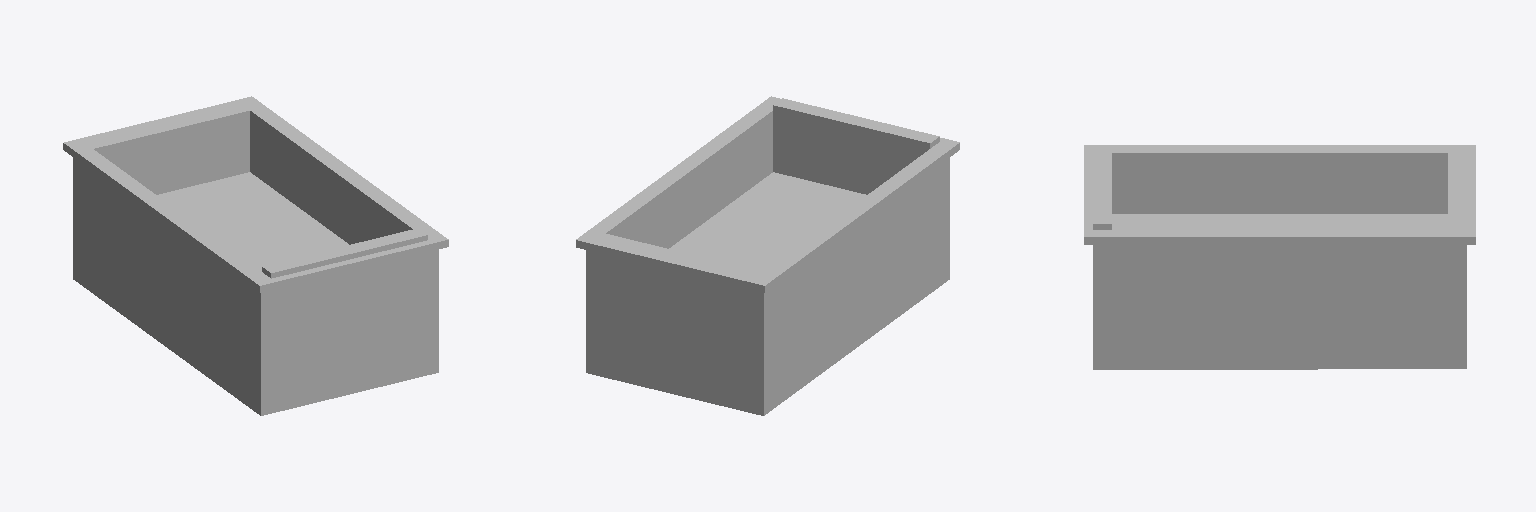
The model's file is Container.obj.
3 renders of one model, left to right at view 1: azimuth 30°, elevation 25°; view 2: azimuth 150°, elevation 25°; view 3: azimuth 270°, elevation 25°, orthographic.
Parts seen in each view (by area): view 1: Container:initialShadingGroup Container:initialShadingGroup1 Con; view 2: Container:initialShadingGroup Container:initialShadingGroup1 Con; view 3: Container:initialShadingGroup Container:initialShadingGroup1 Con.
Part boxes in pixels (left/top/right/bottom): Container:initialShadingGroup Container:initialShadingGroup1 Con: left=63, top=96, right=448, bottom=415; Container:initialShadingGroup Container:initialShadingGroup1 Con: left=576, top=96, right=959, bottom=415; Container:initialShadingGroup Container:initialShadingGroup1 Con: left=1084, top=145, right=1475, bottom=369.
Bounding box in the file's own units: 4.69 × 3.31 × 8.4.